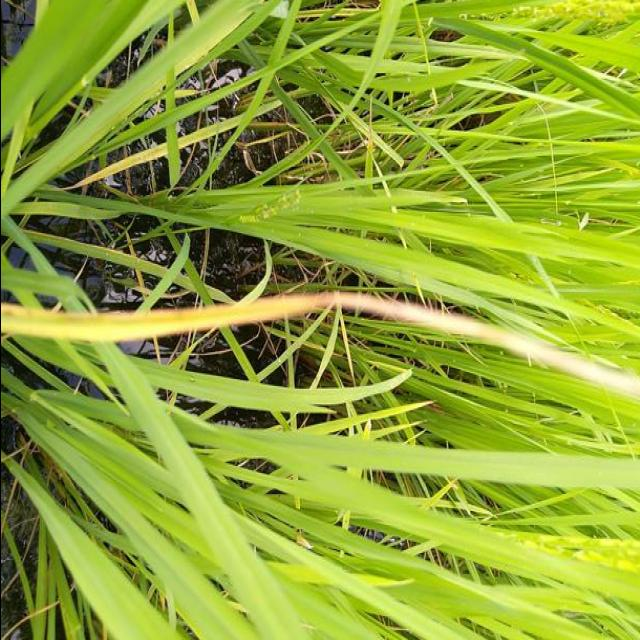Leaf Blight: (0, 288, 640, 396)
